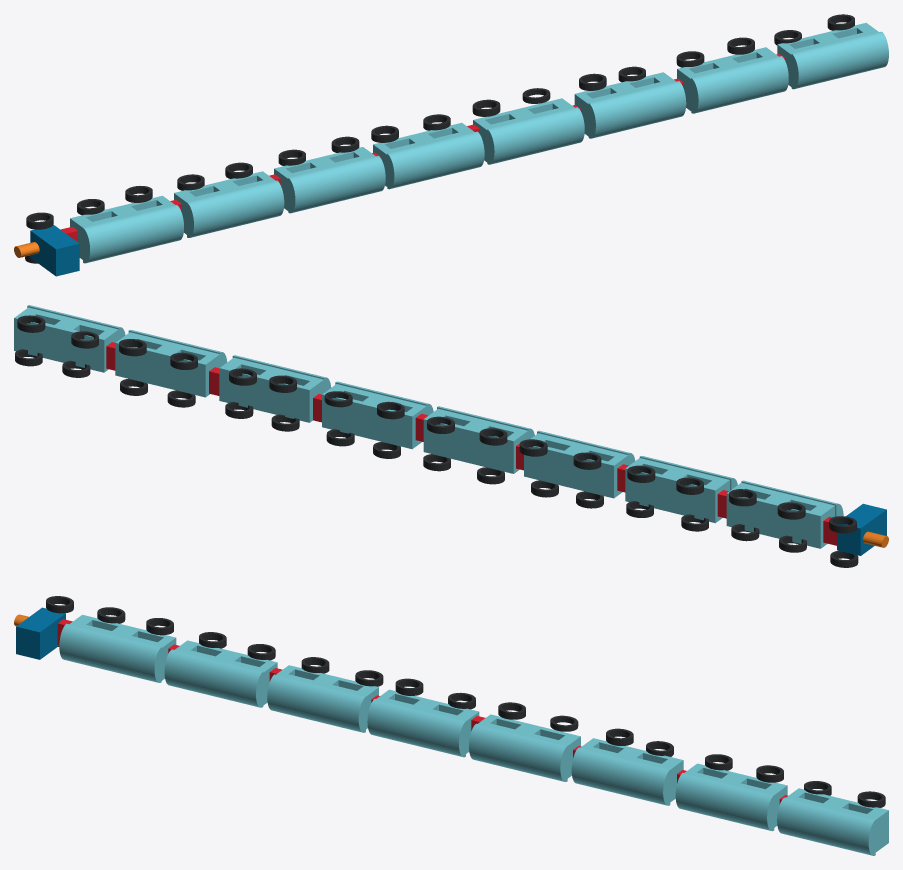
Rendered from tinker.obj.
The picture shows the model from 3 angles, top to bottom: view 1: azimuth 30°, elevation 25°; view 2: azimuth 150°, elevation 25°; view 3: azimuth 330°, elevation 25°; orthographic projection.
Parts seen in each view (by area): view 1: group_0_7720667, group_0_2829873, group_0_30377; view 2: group_0_7720667, group_0_2829873, group_0_15277357, group_0_30377; view 3: group_0_7720667, group_0_2829873, group_0_30377, group_0_15277357.
Boxes of the visible parts, x1,y1,x2,y2 form: group_0_7720667: (70,22,888,263); group_0_2829873: (25,14,854,263); group_0_30377: (30,225,79,276); group_0_7720667: (14,305,843,548); group_0_2829873: (15,315,858,567); group_0_15277357: (106,342,836,545); group_0_30377: (837,503,886,555); group_0_7720667: (59,615,888,855); group_0_2829873: (46,596,885,807); group_0_30377: (16,607,65,659); group_0_15277357: (57,619,787,804).
Size of the model in its own units: 692 by 36 by 51.
